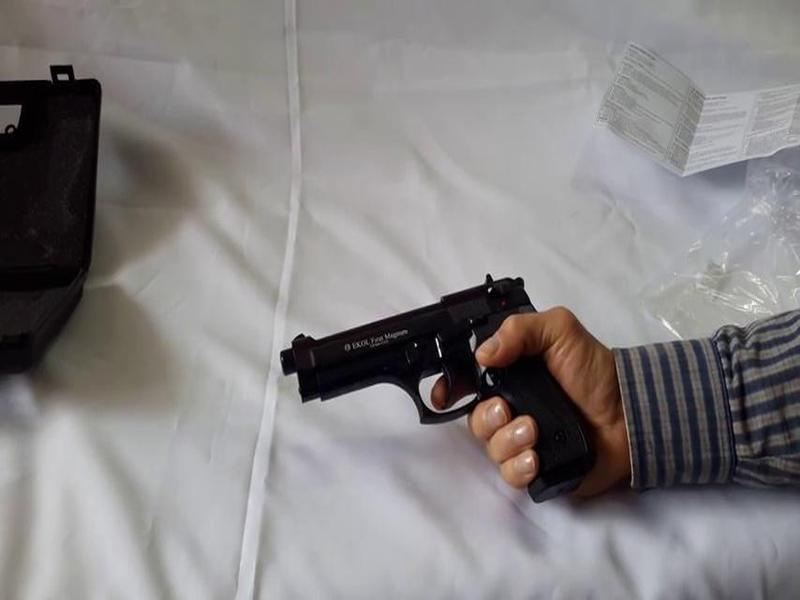Pistola: (282, 262, 572, 469)
